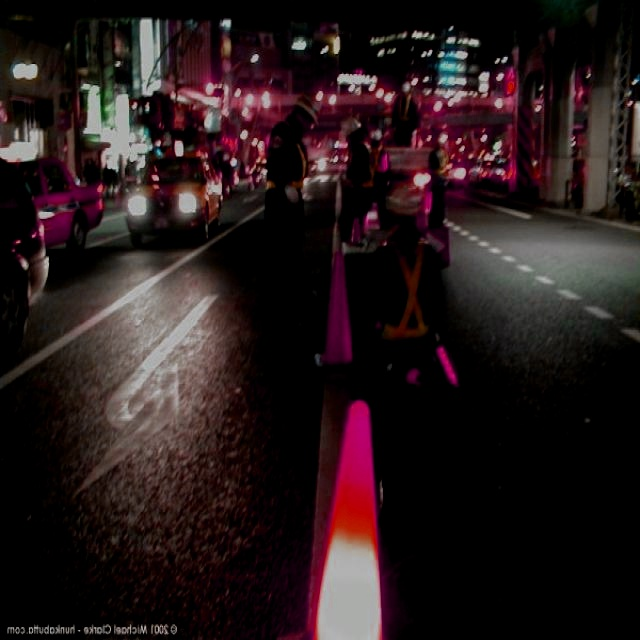Con_Chaleco: (382, 238, 438, 344)
